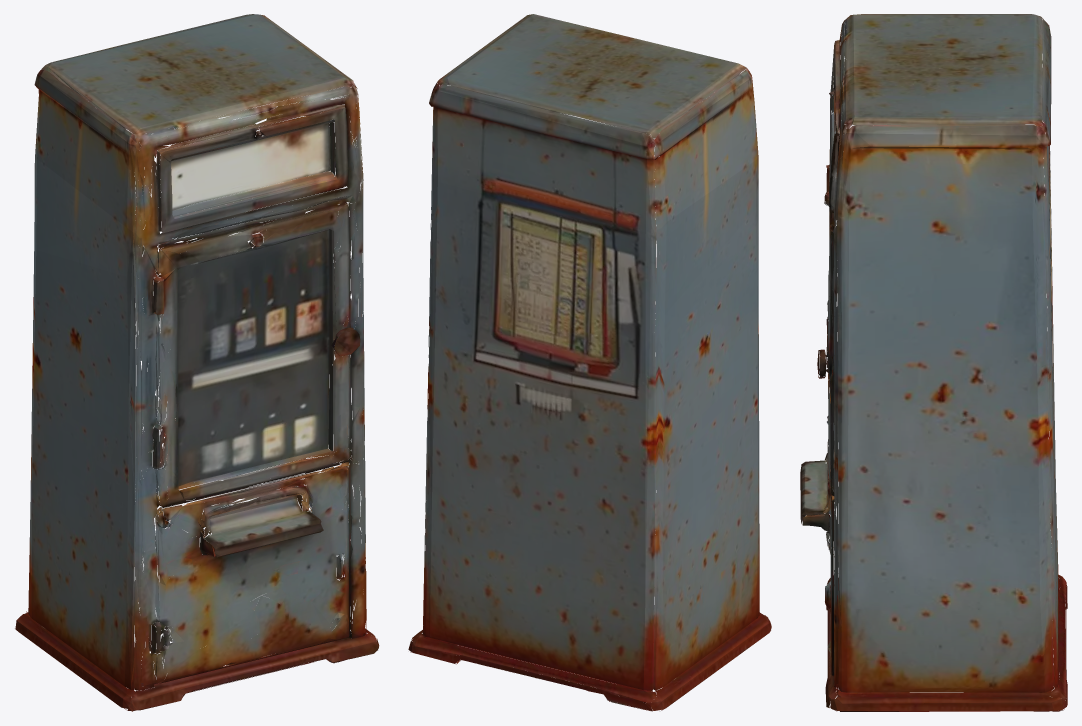
Rendered from vending-machine.glb.
3 views of the same model, side by side, from view 1: azimuth 30°, elevation 25°; view 2: azimuth 150°, elevation 25°; view 3: azimuth 270°, elevation 25° (orthographic). The views are drawn at different scales.
Visible parts, largest first — view 1: prop; view 2: prop; view 3: prop.
Part boxes in pixels (x1=…): prop: x1=15, y1=14, x2=379, y2=711; prop: x1=408, y1=14, x2=771, y2=711; prop: x1=800, y1=14, x2=1067, y2=711.
Size of the model in its own units: 0.6118 by 1.3 by 0.5406.
1 material, 1 textured.
